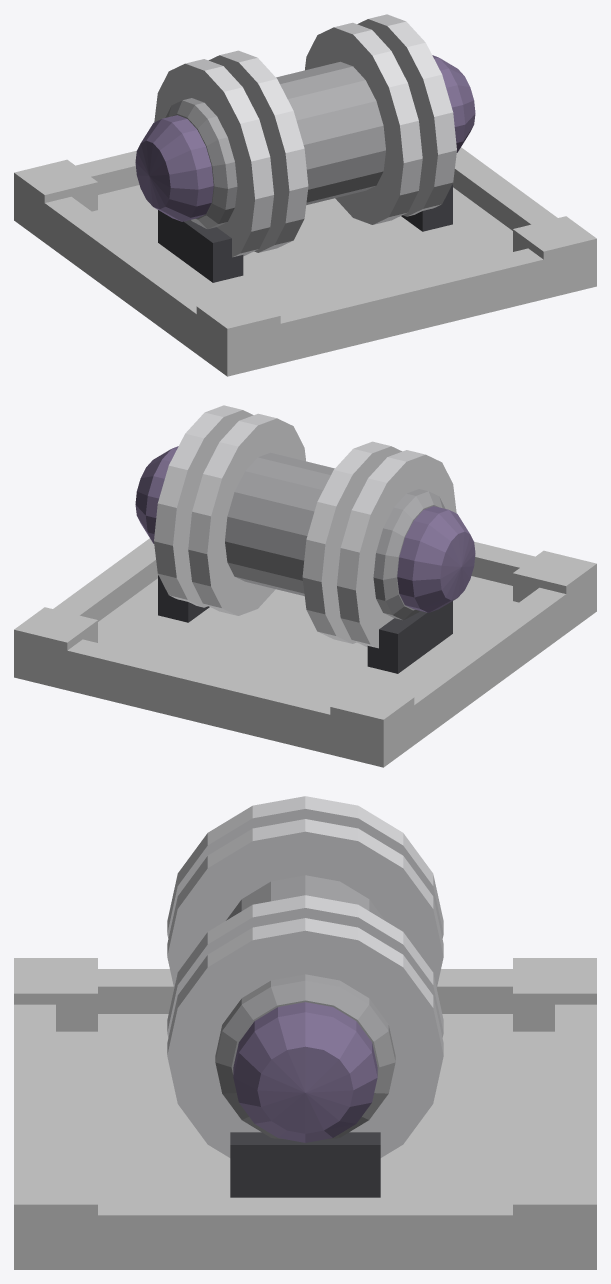
The model's file is vge_astrofuel_optimizer.obj.
3 views of the same model, one above another, from view 1: azimuth 30°, elevation 25°; view 2: azimuth 150°, elevation 25°; view 3: azimuth 270°, elevation 25° (orthographic). The views are drawn at different scales.
Parts seen in each view (by area): view 1: vge_astrofuel_optimizer_0, vge_astrofuel_optimizer_1, vge_astrofuel_optimizer_9, vge_astrofuel_optimizer_12, vge_astrofuel_optimizer_10, vge_astrofuel_optimizer_3, vge_astrofuel_optimizer_11, vge_astrofuel_optimizer_13, vge_astrofuel_optimizer_14, vge_astrofuel_optimizer_5, vge_astrofuel_optimizer_4, vge_astrofuel_optimizer_16 (+5 smaller); view 2: vge_astrofuel_optimizer_0, vge_astrofuel_optimizer_2, vge_astrofuel_optimizer_9, vge_astrofuel_optimizer_3, vge_astrofuel_optimizer_12, vge_astrofuel_optimizer_10, vge_astrofuel_optimizer_11, vge_astrofuel_optimizer_13, vge_astrofuel_optimizer_14, vge_astrofuel_optimizer_4, vge_astrofuel_optimizer_16, vge_astrofuel_optimizer_8 (+5 smaller); view 3: vge_astrofuel_optimizer_0, vge_astrofuel_optimizer_4, vge_astrofuel_optimizer_13, vge_astrofuel_optimizer_11, vge_astrofuel_optimizer_15, vge_astrofuel_optimizer_9, vge_astrofuel_optimizer_17, vge_astrofuel_optimizer_1, vge_astrofuel_optimizer_2, vge_astrofuel_optimizer_8, vge_astrofuel_optimizer_7, vge_astrofuel_optimizer_3 (+4 smaller).
Boxes of the visible parts, x1=… form: vge_astrofuel_optimizer_0: x1=14, y1=185, x2=596, y2=376; vge_astrofuel_optimizer_1: x1=212, y1=247, x2=596, y2=376; vge_astrofuel_optimizer_9: x1=165, y1=61, x2=385, y2=229; vge_astrofuel_optimizer_12: x1=305, y1=22, x2=422, y2=224; vge_astrofuel_optimizer_10: x1=154, y1=59, x2=273, y2=257; vge_astrofuel_optimizer_3: x1=29, y1=192, x2=214, y2=350; vge_astrofuel_optimizer_11: x1=208, y1=50, x2=308, y2=252; vge_astrofuel_optimizer_13: x1=357, y1=14, x2=456, y2=216; vge_astrofuel_optimizer_14: x1=135, y1=115, x2=213, y2=221; vge_astrofuel_optimizer_5: x1=196, y1=293, x2=280, y2=376; vge_astrofuel_optimizer_4: x1=452, y1=147, x2=557, y2=230; vge_astrofuel_optimizer_16: x1=158, y1=210, x2=243, y2=282; vge_astrofuel_optimizer_0: x1=14, y1=576, x2=596, y2=767; vge_astrofuel_optimizer_2: x1=14, y1=638, x2=398, y2=767; vge_astrofuel_optimizer_9: x1=225, y1=452, x2=445, y2=620; vge_astrofuel_optimizer_3: x1=396, y1=583, x2=581, y2=755; vge_astrofuel_optimizer_12: x1=188, y1=413, x2=305, y2=615; vge_astrofuel_optimizer_10: x1=337, y1=450, x2=456, y2=648; vge_astrofuel_optimizer_11: x1=302, y1=441, x2=402, y2=643; vge_astrofuel_optimizer_13: x1=154, y1=405, x2=253, y2=607; vge_astrofuel_optimizer_14: x1=397, y1=506, x2=475, y2=612; vge_astrofuel_optimizer_4: x1=53, y1=538, x2=158, y2=621; vge_astrofuel_optimizer_16: x1=367, y1=601, x2=452, y2=673; vge_astrofuel_optimizer_8: x1=14, y1=607, x2=97, y2=682; vge_astrofuel_optimizer_0: x1=14, y1=1014, x2=596, y2=1269; vge_astrofuel_optimizer_4: x1=56, y1=1197, x2=554, y2=1269; vge_astrofuel_optimizer_13: x1=167, y1=918, x2=443, y2=1157; vge_astrofuel_optimizer_11: x1=167, y1=819, x2=443, y2=987; vge_astrofuel_optimizer_15: x1=233, y1=1002, x2=377, y2=1142; vge_astrofuel_optimizer_9: x1=215, y1=875, x2=395, y2=1138; vge_astrofuel_optimizer_17: x1=230, y1=1132, x2=380, y2=1197; vge_astrofuel_optimizer_1: x1=14, y1=1004, x2=55, y2=1269; vge_astrofuel_optimizer_2: x1=555, y1=1004, x2=596, y2=1269; vge_astrofuel_optimizer_8: x1=513, y1=1169, x2=596, y2=1269; vge_astrofuel_optimizer_7: x1=14, y1=1169, x2=97, y2=1269; vge_astrofuel_optimizer_3: x1=98, y1=969, x2=512, y2=1013.
Size of the model in its own units: 1.94 by 1.04 by 1.94.
